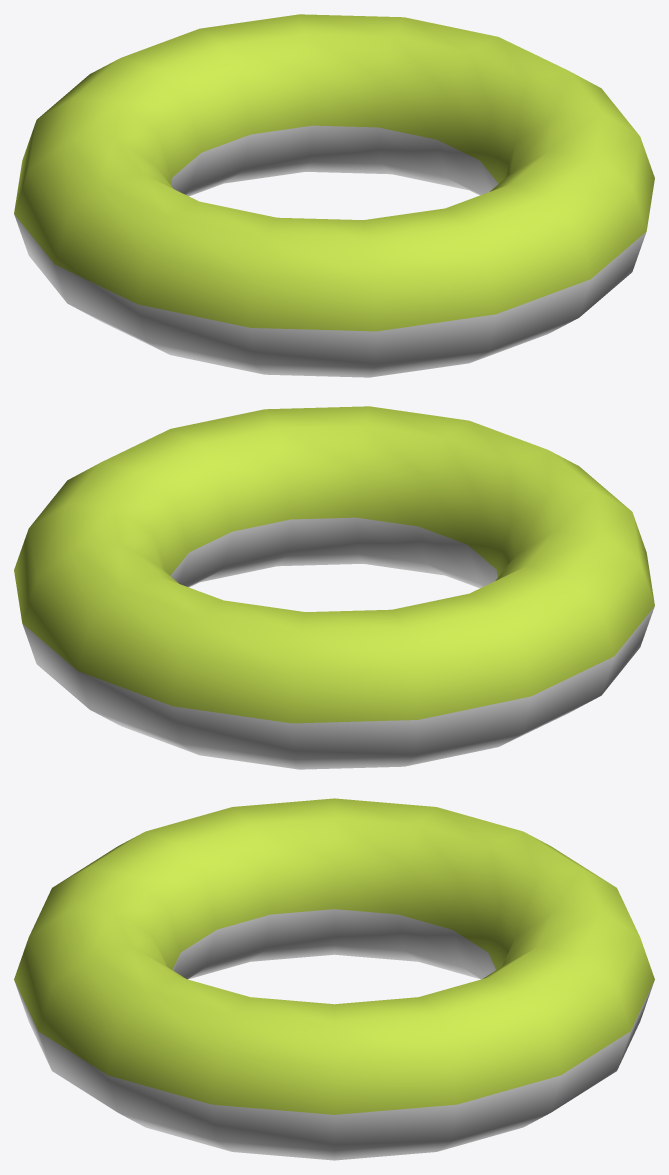
File: swim-ring-green-apple.glb
3 views of the same model, one above another, from view 1: azimuth 30°, elevation 25°; view 2: azimuth 150°, elevation 25°; view 3: azimuth 270°, elevation 25° (orthographic).
Parts seen in each view (by area): view 1: Apple; view 2: Apple; view 3: Apple.
Part boxes in pixels (box(x1,y1,x2,y2)): Apple: box(14, 14, 654, 377); Apple: box(14, 406, 654, 769); Apple: box(14, 798, 654, 1160).
Size of what is drawn, in the model's own units: 1.9 by 0.4453 by 1.9.
